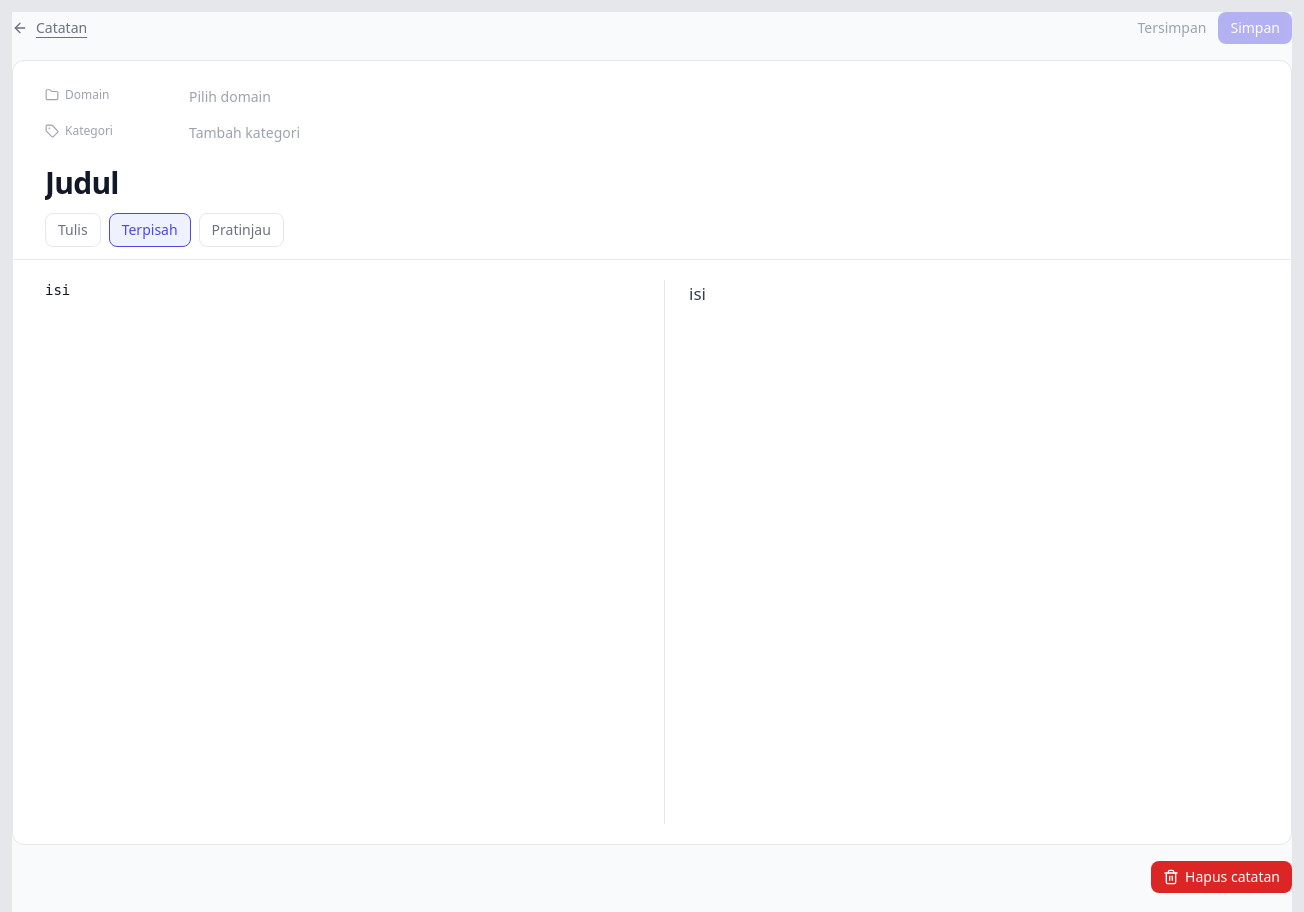
retry after a failed save › tries again on its own, with nobody touching the keyboard
Replace the text in the text box with placeholder "Tulis di sini…" with "isi, dengan tambahan": (342,552) [45,280,640,824]
Wait 3520 ms
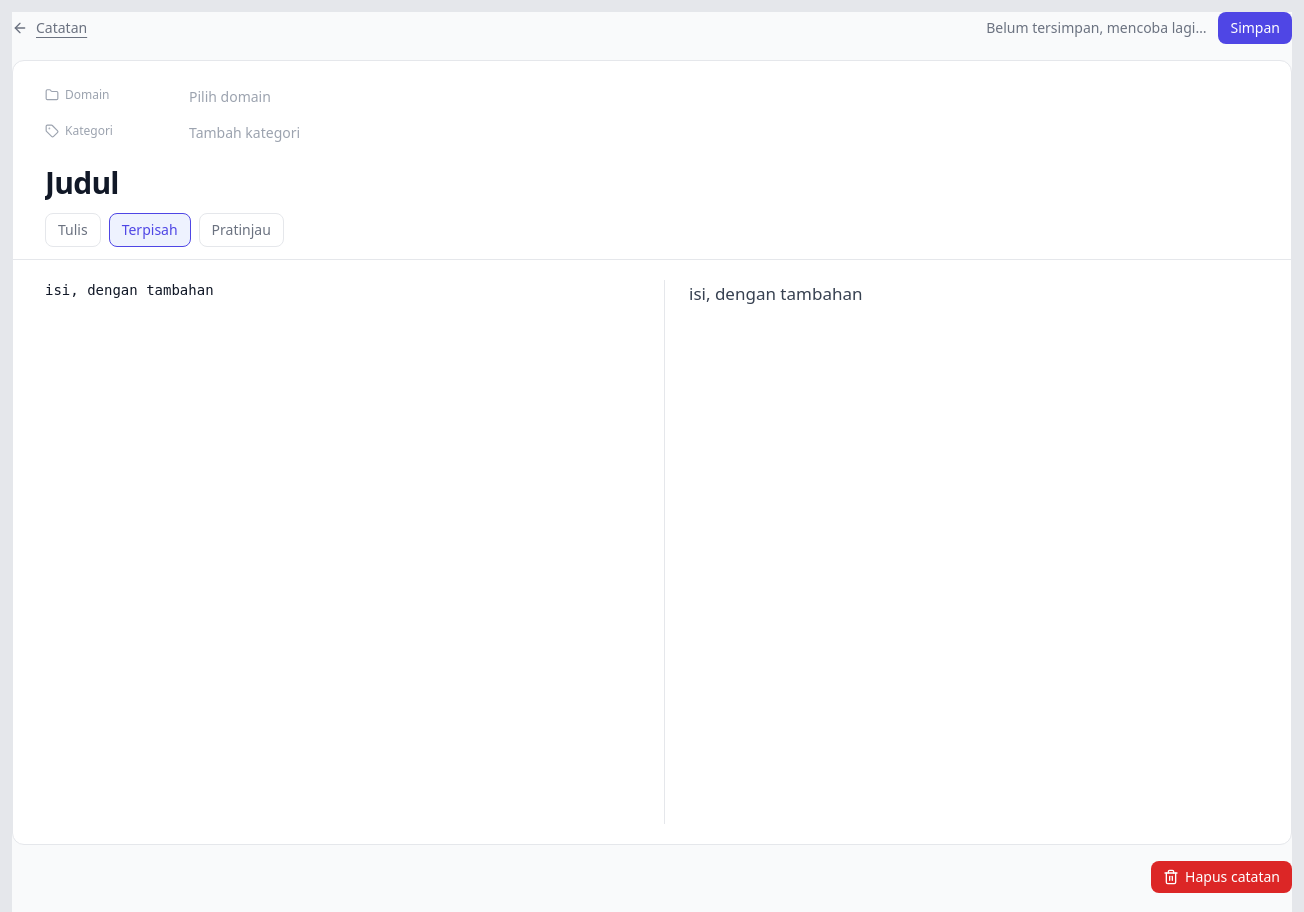
Result: the text "Belum tersimpan, mencoba lagi…" is shown at [986,18,1206,38]
